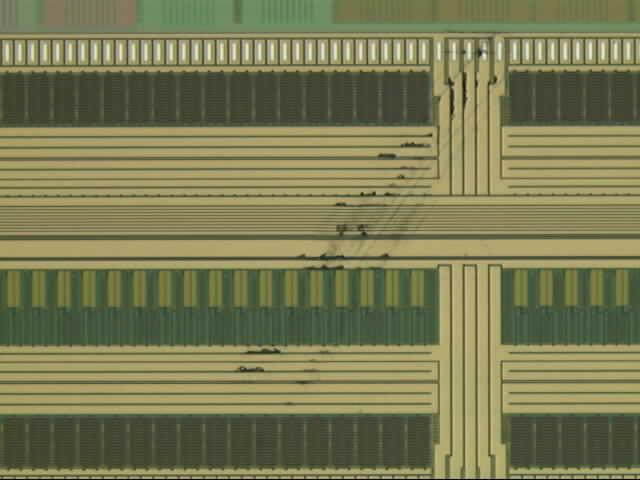SCRATCH: (234, 47, 511, 418)
